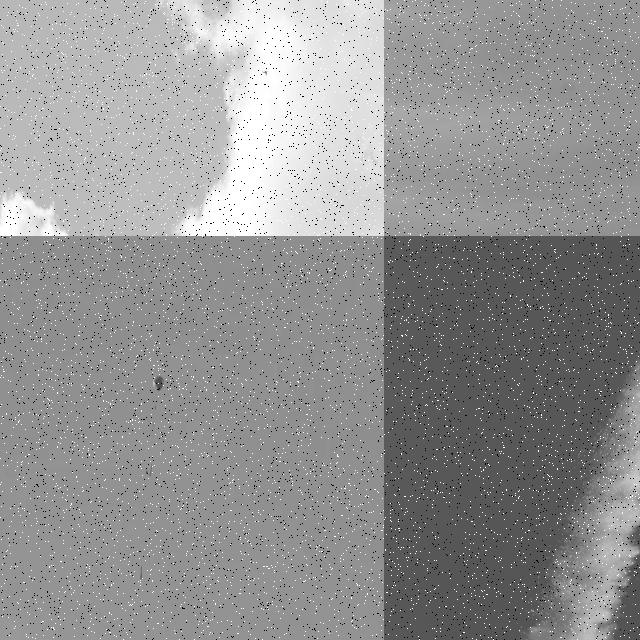Rocket: (262, 70, 270, 76), (140, 565, 142, 580)
